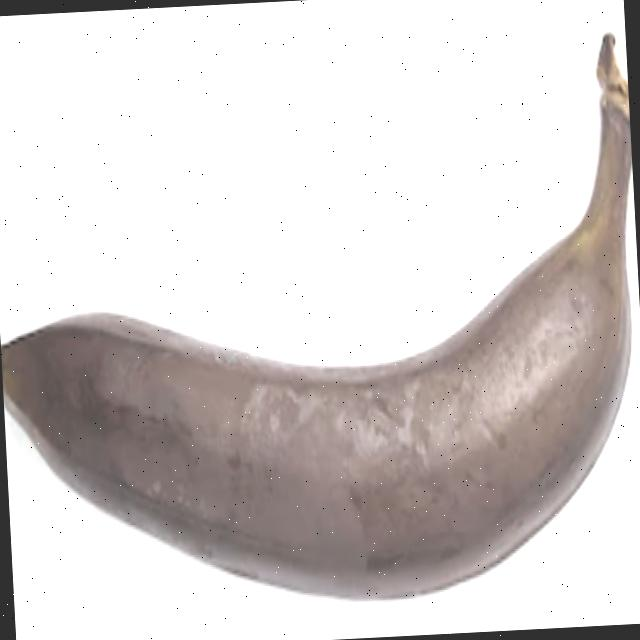Rotten: (0, 20, 640, 628)
